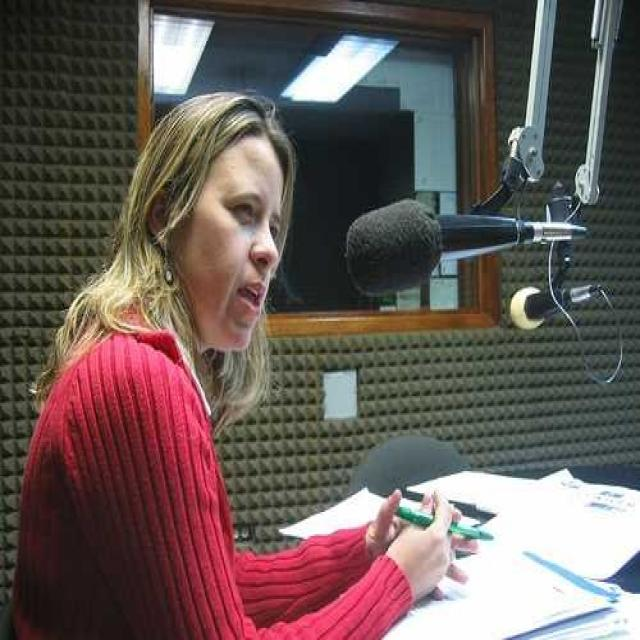microphone: (344, 196, 575, 290)
